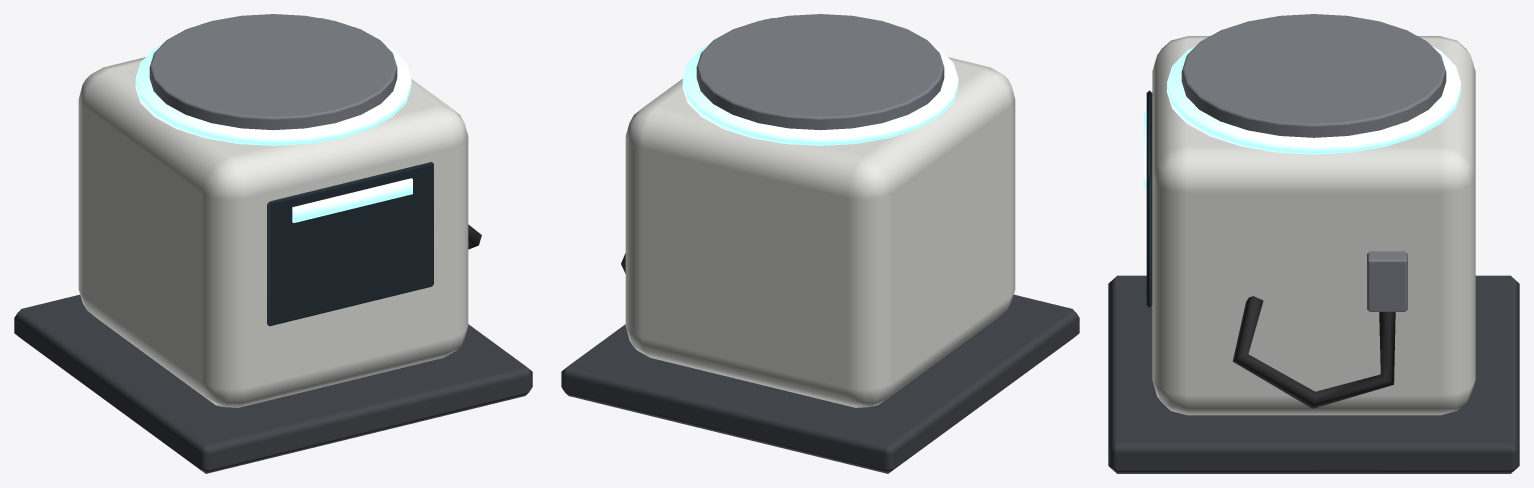
File: kit_charger.glb
3 renders of one model, left to right at view 1: azimuth 30°, elevation 25°; view 2: azimuth 150°, elevation 25°; view 3: azimuth 270°, elevation 25°, orthographic. The views are drawn at different scales.
Parts seen in each view (by area): view 1: charger; view 2: charger; view 3: charger.
Boxes of the visible parts, x1=… form: charger: x1=14, y1=14, x2=532, y2=473; charger: x1=561, y1=14, x2=1079, y2=473; charger: x1=1108, y1=14, x2=1519, y2=473.
Size of the model in its own units: 1.45 by 1.21 by 1.4.
